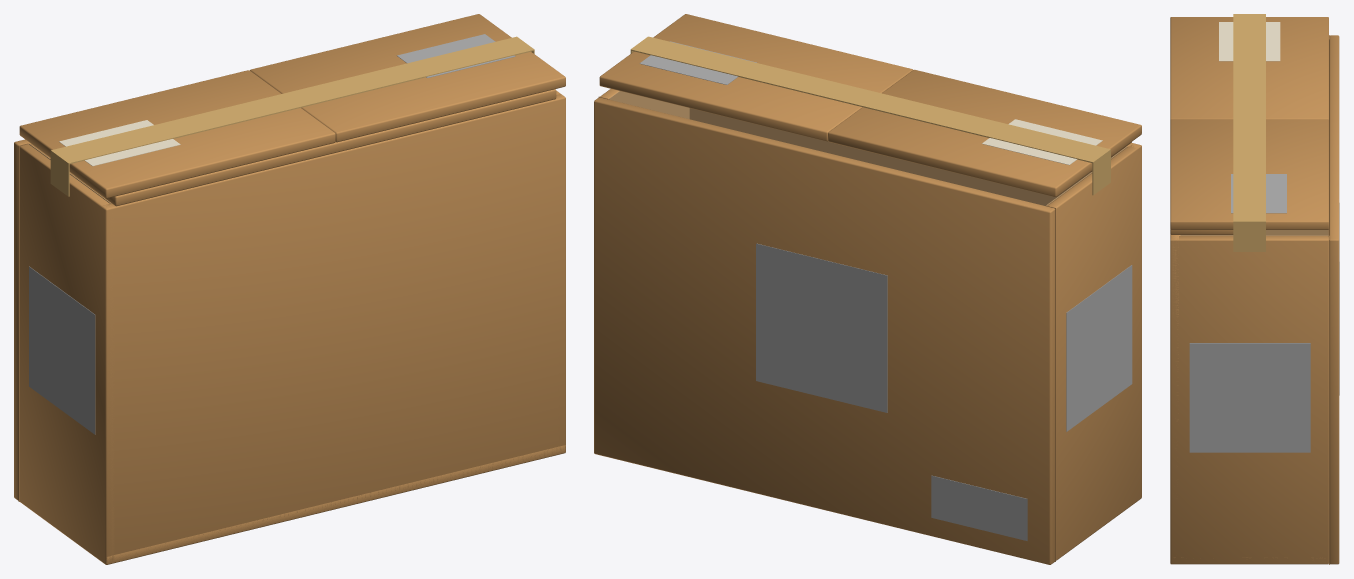
3 views of the same model, side by side, from view 1: azimuth 30°, elevation 25°; view 2: azimuth 150°, elevation 25°; view 3: azimuth 270°, elevation 25° (orthographic). The views are drawn at different scales.
Parts seen in each view (by area): view 1: box_4x3, FlapR, FlapL, Tape, FlapB, Front; view 2: Front, box_4x3, FlapR, FlapL, Tape; view 3: box_4x3, FlapL, FlapR, Tape, Front, FlapB.
Part boxes in pixels (x1=…): box_4x3: x1=18, y1=90, x2=565, y2=564; FlapR: x1=19, y1=70, x2=335, y2=198; FlapL: x1=250, y1=14, x2=565, y2=142; Tape: x1=50, y1=36, x2=534, y2=196; FlapB: x1=75, y1=89, x2=556, y2=206; Front: x1=14, y1=139, x2=110, y2=500; Front: x1=594, y1=97, x2=1055, y2=564; box_4x3: x1=598, y1=89, x2=1141, y2=561; FlapR: x1=828, y1=69, x2=1141, y2=196; FlapL: x1=599, y1=14, x2=912, y2=141; Tape: x1=630, y1=36, x2=1110, y2=195; box_4x3: x1=1170, y1=35, x2=1329, y2=564; FlapL: x1=1170, y1=119, x2=1328, y2=229; FlapR: x1=1170, y1=17, x2=1328, y2=119; Tape: x1=1233, y1=14, x2=1265, y2=251; Front: x1=1329, y1=35, x2=1339, y2=564; FlapB: x1=1170, y1=229, x2=1233, y2=234.
Size of the model in its own units: 1.06 by 0.8185 by 0.3649.
